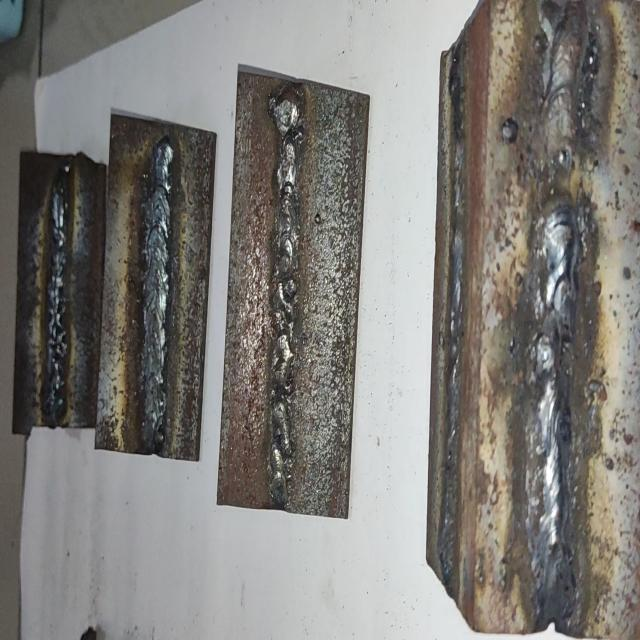Defect: (265, 90, 300, 501), (528, 63, 602, 240), (530, 260, 576, 460), (45, 176, 70, 421)
Welding Line: (536, 0, 592, 623), (268, 84, 303, 506), (142, 132, 173, 448), (46, 161, 69, 422)
Workpiece: (422, 0, 640, 640), (215, 64, 372, 522), (92, 110, 218, 468), (10, 146, 108, 444)
